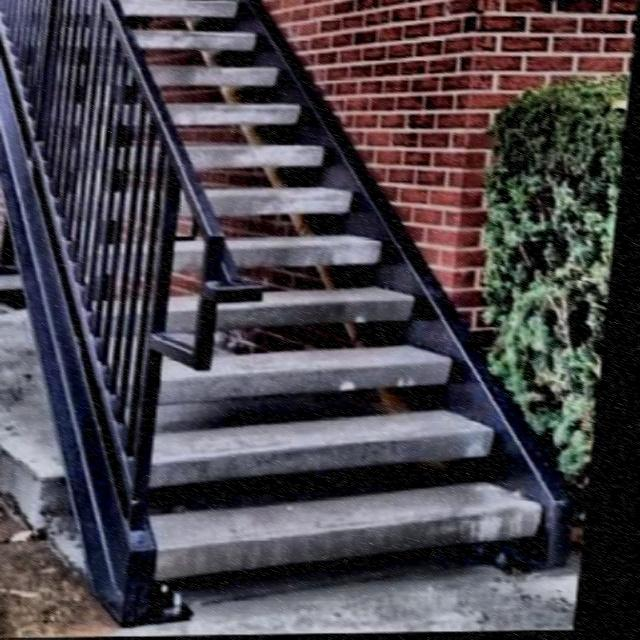stair: (1, 0, 624, 609)
